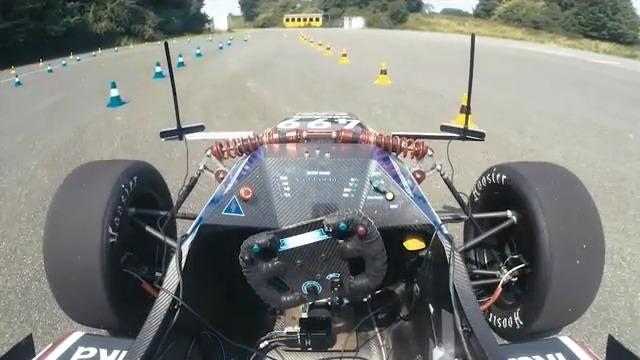blue_cone: (104, 79, 129, 109), (150, 59, 166, 79), (175, 53, 186, 68), (13, 75, 23, 88), (194, 45, 203, 57)
yellow_cone: (450, 93, 479, 132), (372, 61, 392, 86), (339, 49, 350, 64), (324, 44, 333, 56)
